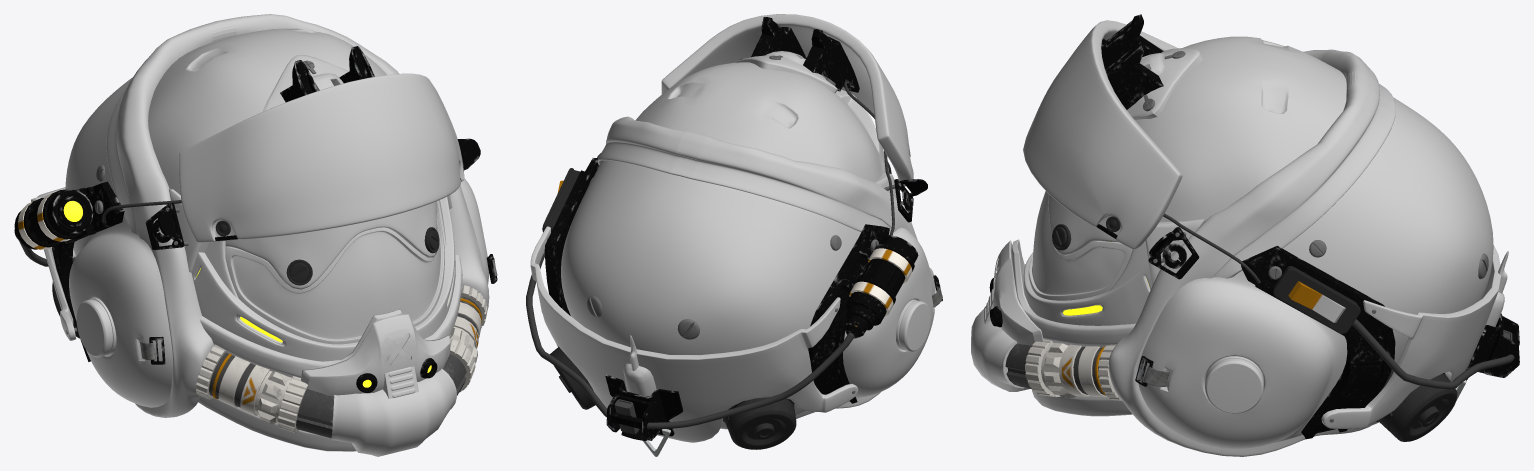
Rendered from ViperHeimet-Test.fbx.
The picture shows the model from 3 angles, left to right: view 1: azimuth 30°, elevation 25°; view 2: azimuth 150°, elevation 25°; view 3: azimuth 270°, elevation 25°; orthographic projection. The views are drawn at different scales.
Visible parts, largest first — view 1: Visor_Cover_2, Leather_Cover, Head_Main_2, Visor, Head_Main_1, Mask_2, Mask_3, Face_1, Face_2, Mask_1, Visor_Cover_1, Tactical_Light (+10 smaller); view 2: Head_Main_2, Back_Mount, Head_Main_1, Leather_Cover, Visor_Cover_2, Headgear_mount_2, Tactical_Light, Cylinders, Visor_Cover_Mount, Wire_1, Headset_Control, Antenna_Cover (+9 smaller); view 3: Head_Main_2, Head_Main_1, Leather_Cover, Visor_Cover_2, Back_Mount, Headgear_mount_2, Visor, Mask_2, Face_2, Face_1, Visor_Cover_Mount, Light_Switch (+12 smaller).
Part boxes in pixels (box(x1,y1,x2,y2)): Visor_Cover_2: box(179, 73, 464, 242); Leather_Cover: box(106, 14, 489, 417); Head_Main_2: box(65, 77, 488, 407); Visor: box(225, 203, 444, 344); Head_Main_1: box(148, 28, 446, 298); Mask_2: box(196, 285, 487, 438); Mask_3: box(331, 369, 456, 456); Face_1: box(191, 196, 455, 361); Face_2: box(198, 254, 462, 451); Mask_1: box(301, 314, 450, 396); Visor_Cover_1: box(225, 201, 437, 289); Tactical_Light: box(14, 189, 93, 249); Head_Main_2: box(561, 160, 935, 429); Back_Mount: box(530, 226, 858, 442); Head_Main_1: box(635, 62, 885, 181); Leather_Cover: box(597, 116, 935, 418); Visor_Cover_2: box(661, 14, 913, 186); Headgear_mount_2: box(544, 158, 889, 403); Tactical_Light: box(845, 235, 918, 338); Cylinders: box(550, 347, 796, 449); Visor_Cover_Mount: box(751, 17, 859, 92); Wire_1: box(526, 252, 854, 429); Headset_Control: box(896, 299, 930, 351); Antenna_Cover: box(605, 374, 683, 422); Head_Main_2: box(1138, 97, 1493, 449); Head_Main_1: box(1110, 36, 1346, 290); Leather_Cover: box(1108, 49, 1395, 456); Visor_Cover_2: box(1023, 20, 1182, 249); Back_Mount: box(1321, 244, 1501, 428); Headgear_mount_2: box(1241, 245, 1395, 439); Visor: box(1028, 191, 1132, 300); Mask_2: box(1005, 241, 1121, 400); Face_2: box(1011, 239, 1135, 416); Face_1: box(1023, 252, 1152, 325); Visor_Cover_Mount: box(1101, 14, 1163, 109); Light_Switch: box(1273, 266, 1360, 333).
Size of the model in its own units: 576 by 519 by 678.
